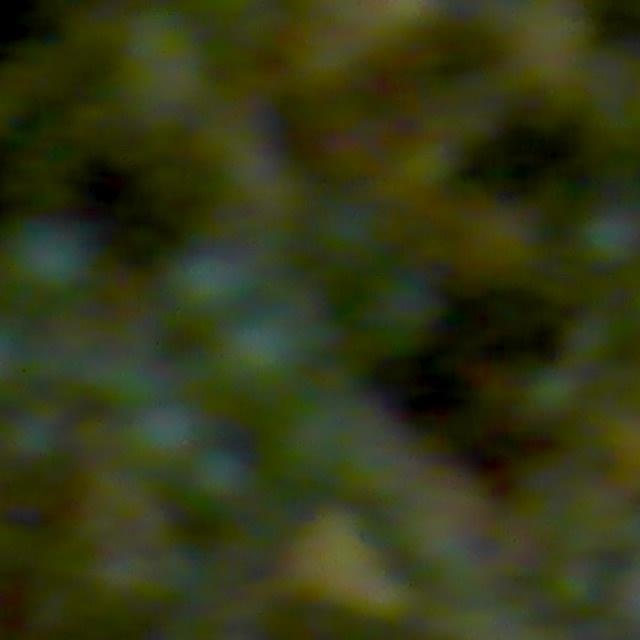SeaGrape: (215, 309, 305, 397), (6, 217, 95, 300), (167, 245, 256, 319), (121, 398, 199, 472), (184, 444, 254, 511), (0, 403, 66, 468), (576, 206, 640, 269)
